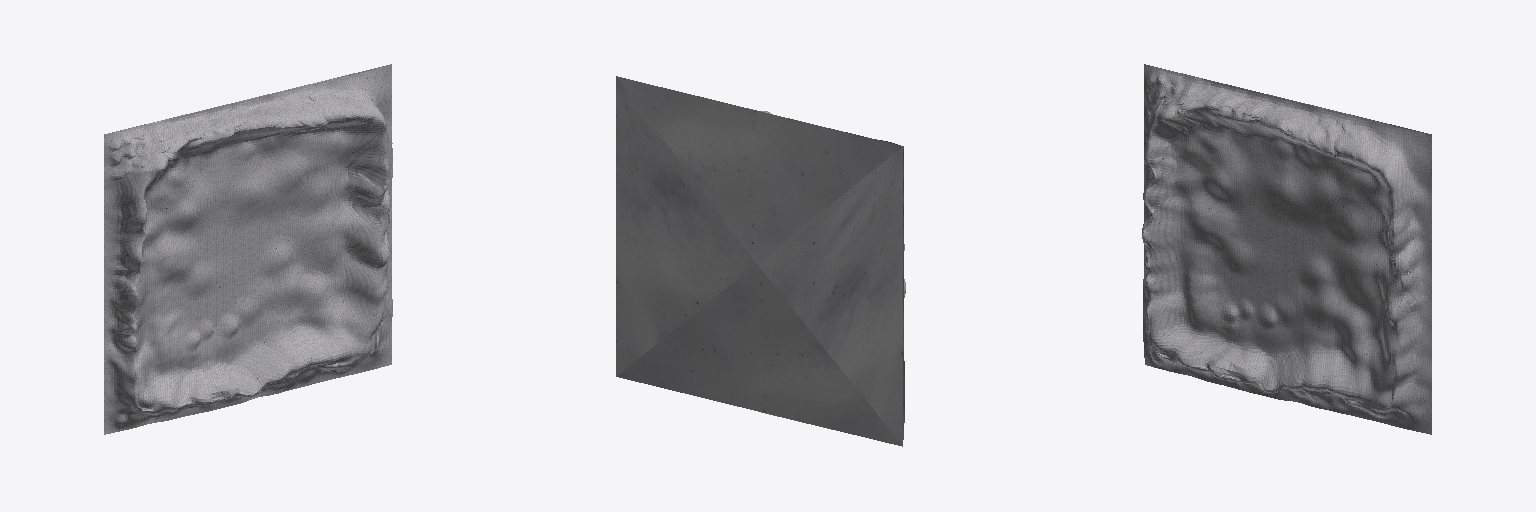
3 renders of one model, left to right at view 1: azimuth 30°, elevation 25°; view 2: azimuth 150°, elevation 25°; view 3: azimuth 330°, elevation 25°, orthographic.
Parts seen in each view (by area): view 1: Ground.003.010, Ground.015.014, Ground.011.015, Ground.009.001, Ground.004.007, Ground.004.005, Ground.006.002, Ground.011.002, Ground.002.013, Ground.013.003, Ground.011.009, Ground.004.010 (+22 smaller); view 2: Bottom; view 3: Ground.009.001, Ground.001.012, Ground.010.011, Ground.005.006, Ground.010.012, Ground.006.008, Ground.005.012, Ground.003.011, Ground.005.003, Ground.009.006, Ground.004.001, Ground.006.004 (+13 smaller).
Part boxes in pixels (x1,y1,x2,y2): Ground.003.010: (248,342,279,375); Ground.015.014: (124,148,156,177); Ground.011.015: (341,266,376,291); Ground.009.001: (266,90,300,123); Ground.004.007: (104,264,135,294); Ground.004.005: (104,244,138,269); Ground.006.002: (230,363,260,396); Ground.011.002: (342,229,377,252); Ground.002.013: (339,188,380,208); Ground.013.003: (345,304,373,331); Ground.011.009: (341,247,380,270); Ground.004.010: (104,224,137,253); Bottom: (616,76,902,446); Ground.009.001: (1290,104,1325,137); Ground.001.012: (1162,322,1194,350); Ground.010.011: (1412,131,1431,170); Ground.005.006: (1146,246,1180,269); Ground.010.012: (1381,150,1413,178); Ground.006.008: (1236,356,1269,384); Ground.005.012: (1148,282,1182,306); Ground.003.011: (1310,354,1341,384); Ground.005.003: (1146,265,1182,287); Ground.009.006: (1274,99,1305,131); Ground.004.001: (1144,188,1178,210); Ground.006.004: (1214,350,1242,380).
Bounding box in the file's own units: 1006 × 1005 × 138.
Materials: 1 (1 with a texture image).